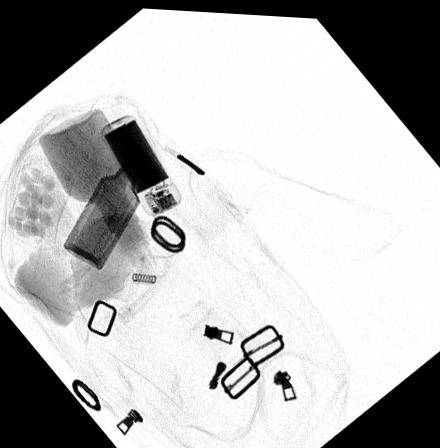Powerbank: (100, 114, 182, 216)
